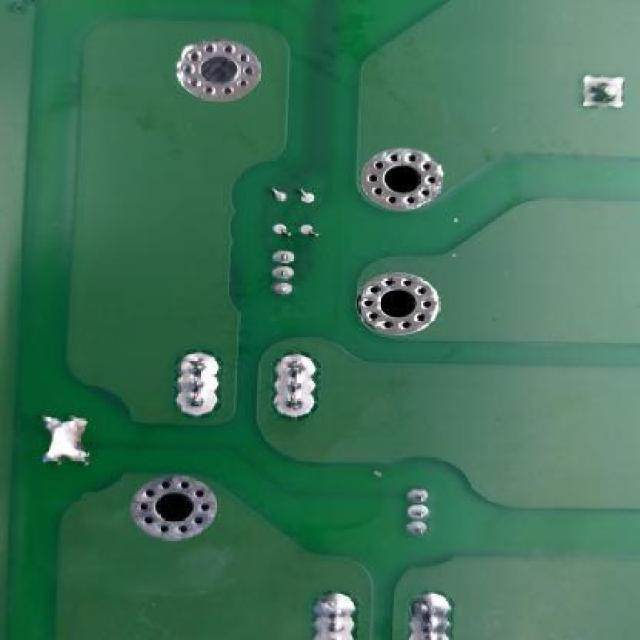Soldering shorted: (34, 410, 94, 470), (175, 343, 220, 419), (270, 349, 319, 418), (404, 586, 452, 639), (316, 586, 355, 639)
